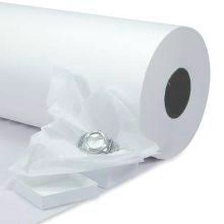tissue: (0, 0, 215, 165), (0, 60, 166, 186), (3, 159, 104, 213)
